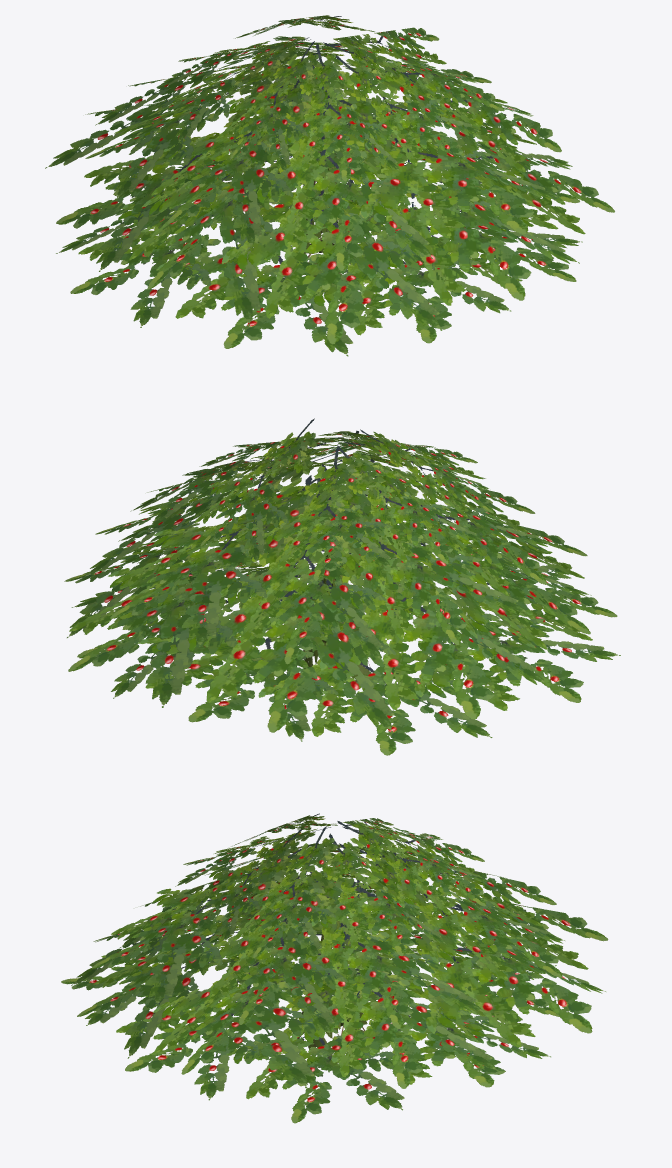
The model's file is CespuglioBacche2.glb.
3 renders of one model, top to bottom at view 1: azimuth 30°, elevation 25°; view 2: azimuth 150°, elevation 25°; view 3: azimuth 270°, elevation 25°, orthographic. The views are drawn at different scales.
Visible parts, largest first — view 1: CespuglioBacche_02; view 2: CespuglioBacche_02; view 3: CespuglioBacche_02.
Part boxes in pixels (<box>): CespuglioBacche_02: <box>45,15,614,356</box>; CespuglioBacche_02: <box>64,418,620,755</box>; CespuglioBacche_02: <box>61,813,608,1123</box>.
Bounding box in the file's own units: 4.87 × 2.03 × 5.07.
1 material, 1 textured.
